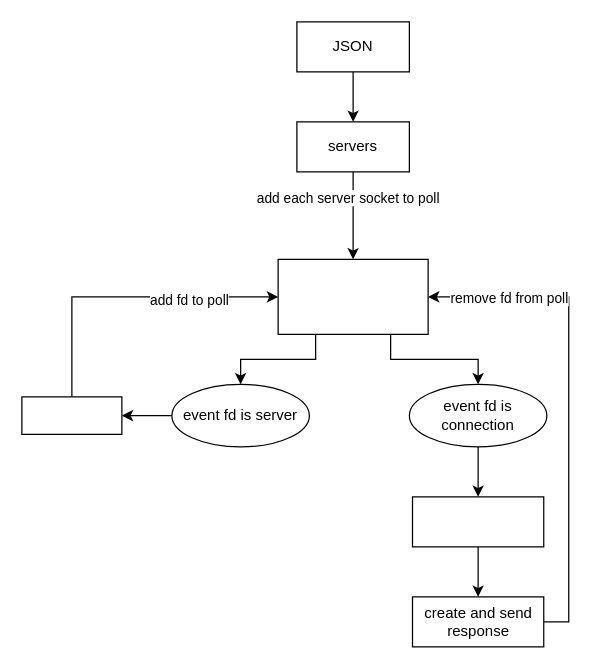
Image size: 601x669. Some labels were removed from this diagram. The shapes that lost their labels are listed below. From the top down, each one's centre as x and y in pixels, then its label:
At point 352,296: "epoll loop".
At point 71,415: "connect()".
At point 477,521: "receive and parse request".
